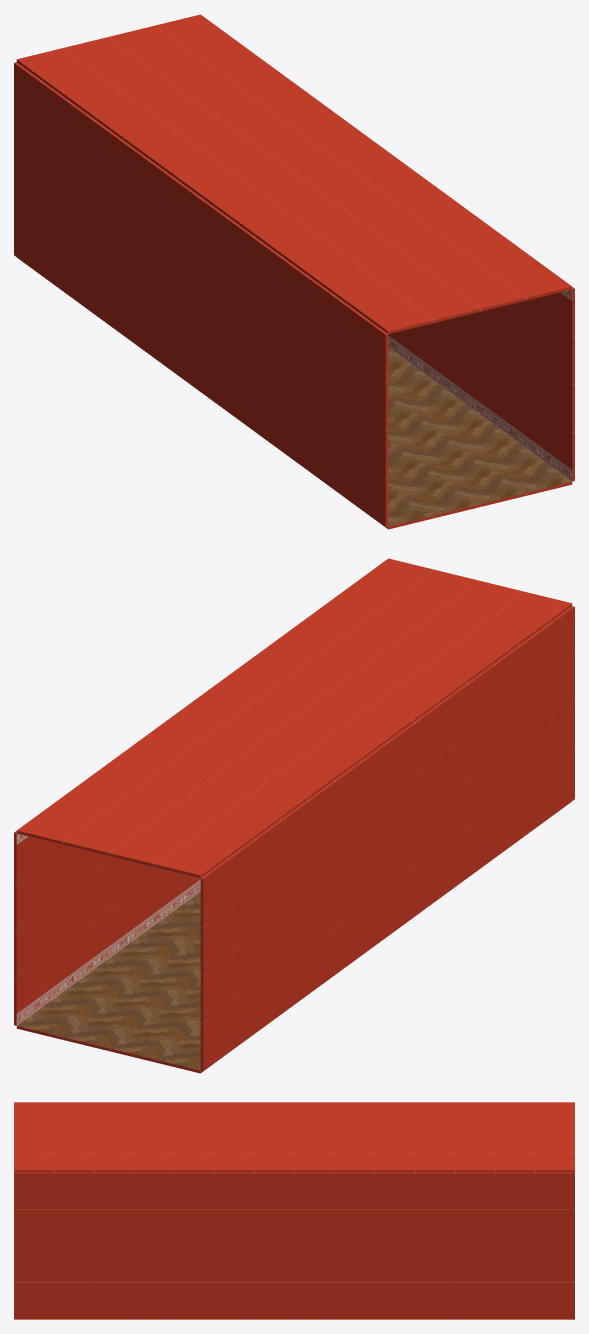
Rendered from CorredorMaior.fbx.
3 views of the same model, one above another, from view 1: azimuth 30°, elevation 25°; view 2: azimuth 150°, elevation 25°; view 3: azimuth 270°, elevation 25° (orthographic). The views are drawn at different scales.
Visible parts, largest first — view 1: CorredorMaior; view 2: CorredorMaior; view 3: CorredorMaior.
Part boxes in pixels (x1,y1,x2,y2): CorredorMaior: (14, 14, 574, 529); CorredorMaior: (14, 558, 574, 1073); CorredorMaior: (14, 1102, 574, 1319).
Size of the model in its own units: 823 by 823 by 2800.
